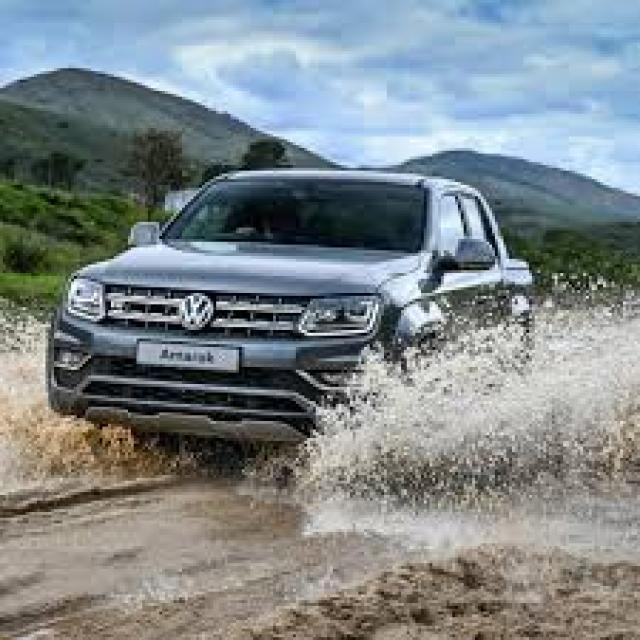Pickup Trucks: (45, 174, 538, 464)
